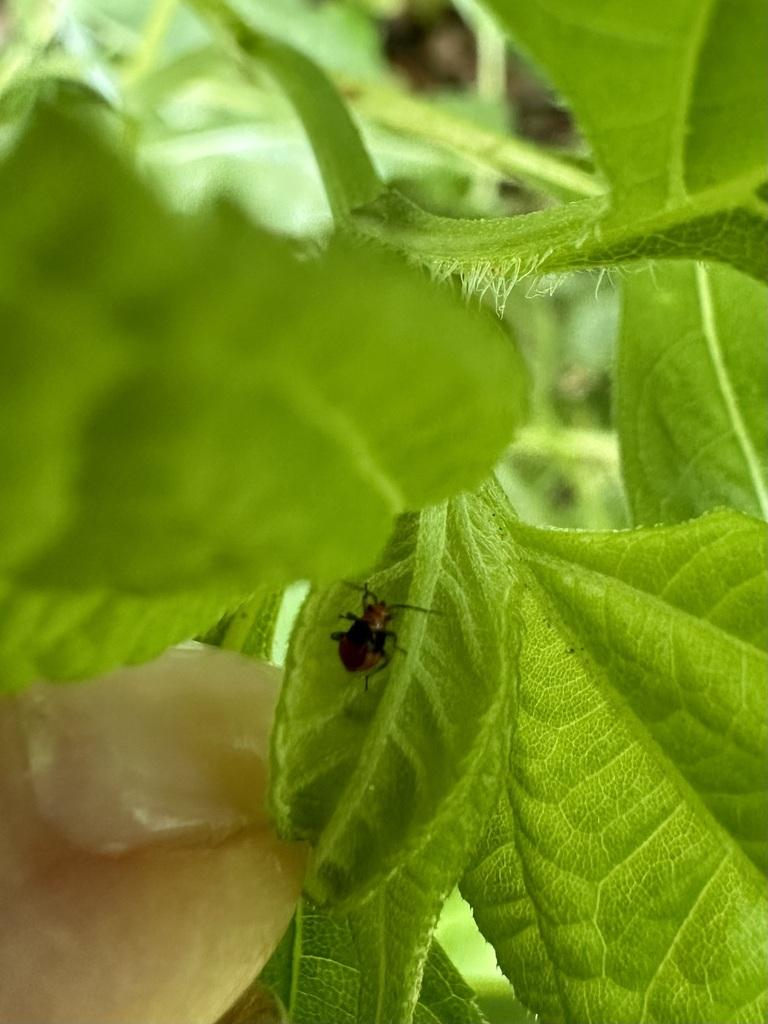plant_bugs: (290, 529, 460, 729)
